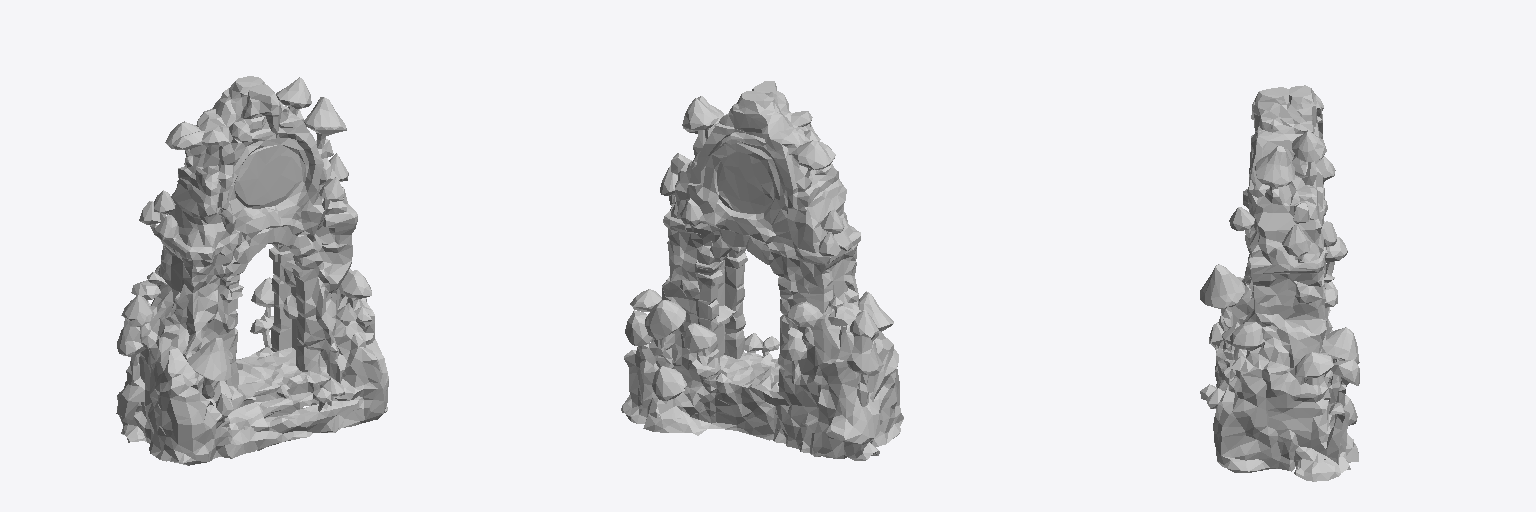
The model's file is Enchanted_Fungal_Gate_0512162655_texture.obj.
The picture shows the model from 3 angles: view 1: azimuth 30°, elevation 25°; view 2: azimuth 150°, elevation 25°; view 3: azimuth 270°, elevation 25°; orthographic projection.
Parts seen in each view (by area): view 1: Enchanted_Fungal_Gate_[number redacted]_texture; view 2: Enchanted_Fungal_Gate_[number redacted]_texture; view 3: Enchanted_Fungal_Gate_[number redacted]_texture.
Boxes of the visible parts, x1=… form: Enchanted_Fungal_Gate_[number redacted]_texture: x1=116, y1=76, x2=388, y2=465; Enchanted_Fungal_Gate_[number redacted]_texture: x1=621, y1=81, x2=903, y2=460; Enchanted_Fungal_Gate_[number redacted]_texture: x1=1200, y1=85, x2=1359, y2=481.
Bounding box in the file's own units: 1.55 × 1.99 × 0.8636.